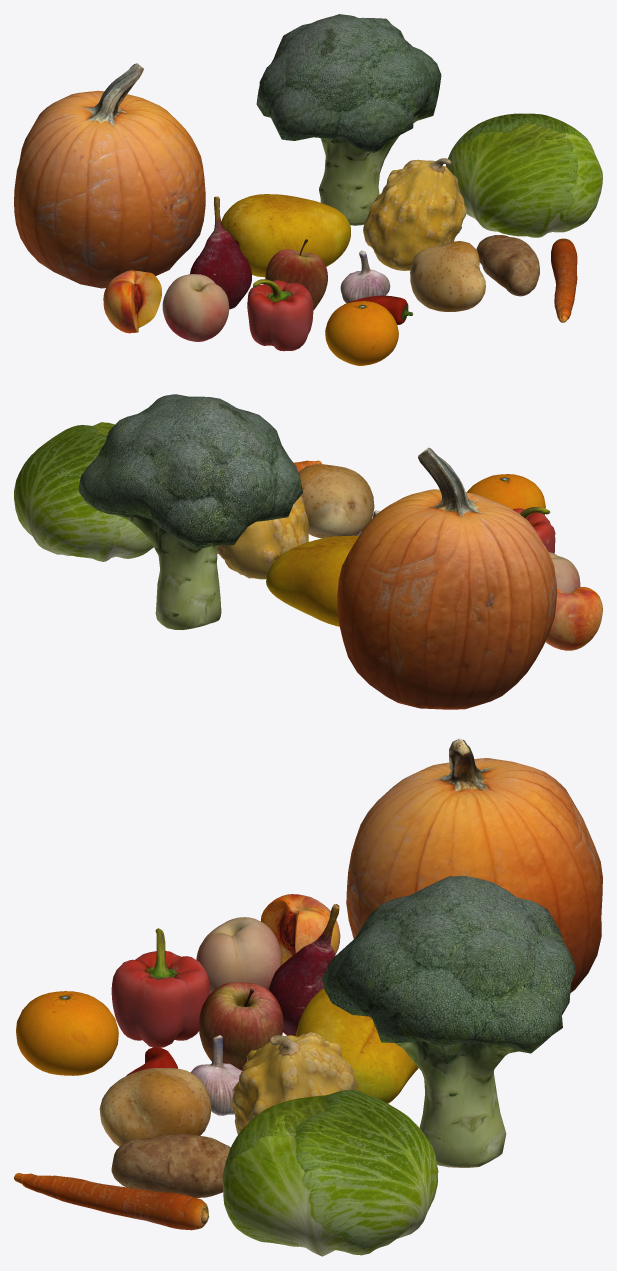
File: fruit.glb
3 renders of one model, top to bottom at view 1: azimuth 30°, elevation 25°; view 2: azimuth 150°, elevation 25°; view 3: azimuth 270°, elevation 25°, orthographic. The views are drawn at different scales.
Parts seen in each view (by area): view 1: Pumpkin_Pumpkin_0, Broccoli_Broccoli_0, Cabbage_Cabbage_0, Decorative Gourd_Decorative Gourd_0, Mango_Mango_0, Potato_Potato_0, Red Bell Pepper_Red Bell Pepper_0, Mandarin Orange_Mandarin.001_0, Peach_Peach_0, Red Pear_Red Pear_0, Cut Yellow Peach_Cut Yellow Peach_0, Russet Potato_Russett Potato_0 (+4 smaller); view 2: Pumpkin_Pumpkin_0, Broccoli_Broccoli_0, Cabbage_Cabbage_0, Mango_Mango_0, Potato_Potato_0, Decorative Gourd_Decorative Gourd_0, Cut Yellow Peach_Cut Yellow Peach_0, Mandarin Orange_Mandarin.001_0, Red Bell Pepper_Red Bell Pepper_0, Peach_Peach_0; view 3: Broccoli_Broccoli_0, Pumpkin_Pumpkin_0, Cabbage_Cabbage_0, Red Bell Pepper_Red Bell Pepper_0, Decorative Gourd_Decorative Gourd_0, Mandarin Orange_Mandarin.001_0, Potato_Potato_0, Russet Potato_Russett Potato_0, Mango_Mango_0, Carrot_Carrot_0, Apple_Apple_0, Peach_Peach_0 (+3 smaller).
Boxes of the visible parts, <box> form: Pumpkin_Pumpkin_0: <box>14,63,205,288</box>; Broccoli_Broccoli_0: <box>256,14,441,225</box>; Cabbage_Cabbage_0: <box>445,113,602,237</box>; Decorative Gourd_Decorative Gourd_0: <box>363,158,466,270</box>; Mango_Mango_0: <box>221,194,350,277</box>; Potato_Potato_0: <box>410,241,485,311</box>; Red Bell Pepper_Red Bell Pepper_0: <box>247,279,313,351</box>; Mandarin Orange_Mandarin.001_0: <box>325,301,398,365</box>; Peach_Peach_0: <box>162,274,229,341</box>; Red Pear_Red Pear_0: <box>190,196,251,309</box>; Cut Yellow Peach_Cut Yellow Peach_0: <box>103,270,161,333</box>; Russet Potato_Russett Potato_0: <box>476,235,539,296</box>; Pumpkin_Pumpkin_0: <box>337,447,557,709</box>; Broccoli_Broccoli_0: <box>78,394,302,629</box>; Cabbage_Cabbage_0: <box>14,422,153,561</box>; Mango_Mango_0: <box>266,535,358,626</box>; Potato_Potato_0: <box>298,464,374,538</box>; Decorative Gourd_Decorative Gourd_0: <box>217,495,308,579</box>; Cut Yellow Peach_Cut Yellow Peach_0: <box>545,587,602,650</box>; Mandarin Orange_Mandarin.001_0: <box>466,474,545,514</box>; Red Bell Pepper_Red Bell Pepper_0: <box>512,507,555,553</box>; Peach_Peach_0: <box>549,552,580,593</box>; Broccoli_Broccoli_0: <box>322,875,575,1167</box>; Pumpkin_Pumpkin_0: <box>346,738,602,992</box>; Cabbage_Cabbage_0: <box>222,1090,438,1256</box>; Red Bell Pepper_Red Bell Pepper_0: <box>111,928,209,1047</box>; Decorative Gourd_Decorative Gourd_0: <box>231,1032,357,1134</box>; Mandarin Orange_Mandarin.001_0: <box>16,991,118,1075</box>; Potato_Potato_0: <box>99,1068,211,1146</box>; Russet Potato_Russett Potato_0: <box>111,1134,230,1197</box>; Mango_Mango_0: <box>295,988,418,1103</box>; Carrot_Carrot_0: <box>14,1173,208,1230</box>; Apple_Apple_0: <box>199,982,283,1070</box>; Peach_Peach_0: <box>196,917,281,994</box>.
Bounding box in the file's own units: 64.38 × 24.94 × 47.76.
16 materials, 16 textured.
